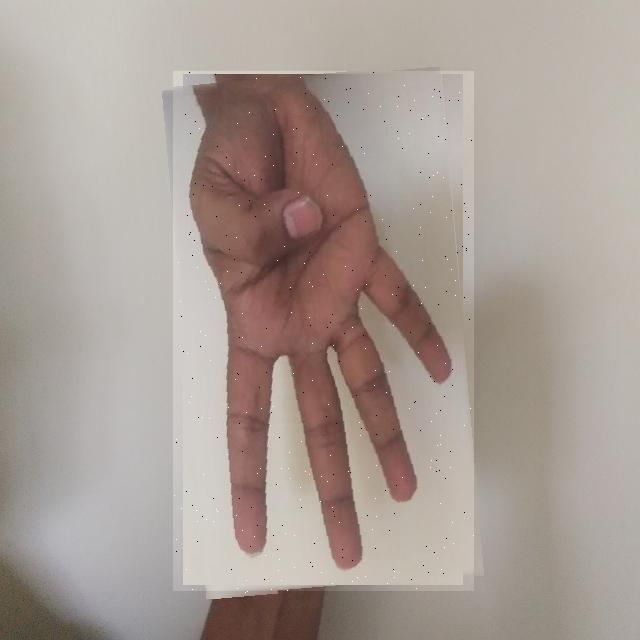Thanks: (173, 71, 474, 594)
